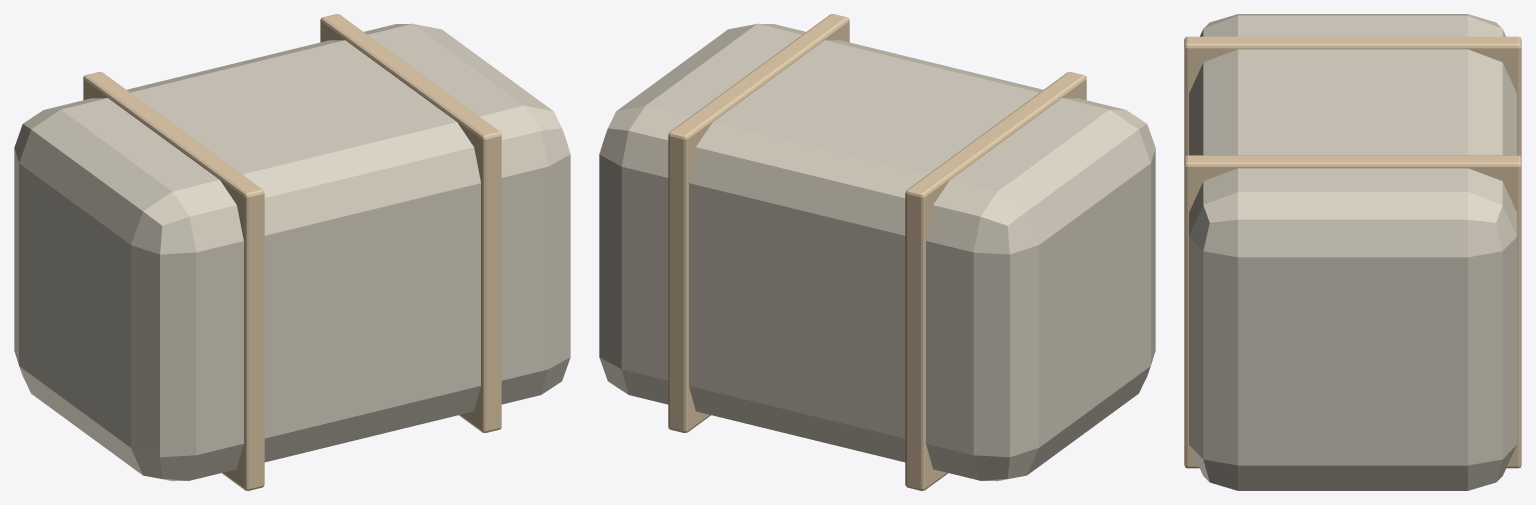
The model's file is hay-bale.glb.
The picture shows the model from 3 angles, left to right: view 1: azimuth 30°, elevation 25°; view 2: azimuth 150°, elevation 25°; view 3: azimuth 270°, elevation 25°; orthographic projection. The views are drawn at different scales.
Parts seen in each view (by area): view 1: Hay, Binding, Binding.001; view 2: Hay, Binding, Binding.001; view 3: Hay, Binding.001, Binding.
Part boxes in pixels (left/top/right/bottom): Hay: left=14, top=23, right=570, bottom=481; Binding: left=83, top=72, right=264, bottom=490; Binding.001: left=320, top=14, right=501, bottom=432; Hay: left=599, top=23, right=1155, bottom=481; Binding: left=905, top=72, right=1086, bottom=490; Binding.001: left=668, top=14, right=849, bottom=432; Hay: left=1189, top=14, right=1516, bottom=490; Binding.001: left=1184, top=155, right=1521, bottom=468; Binding: left=1184, top=36, right=1521, bottom=157.
Size of the model in its own units: 1.1 by 0.72 by 0.72.
